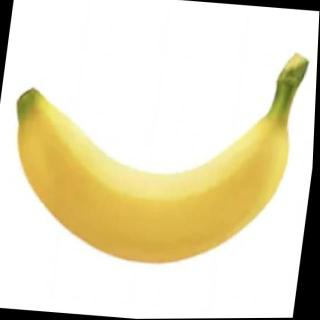banana: (0, 81, 299, 276)
